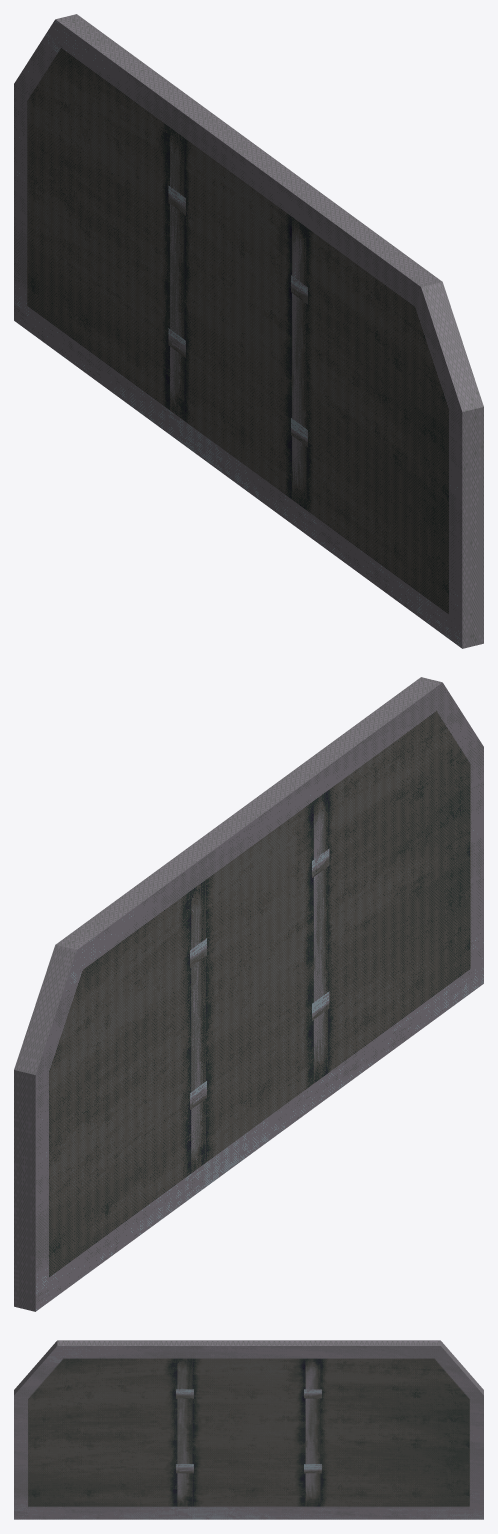
File: Door.fbx
3 views of the same model, one above another, from view 1: azimuth 30°, elevation 25°; view 2: azimuth 150°, elevation 25°; view 3: azimuth 270°, elevation 25° (orthographic). The views are drawn at different scales.
Visible parts, largest first — view 1: Door; view 2: Door; view 3: Door.
Boxes of the visible parts, x1,y1,x2,y2 form: Door: (14,14,483,648); Door: (14,677,483,1311); Door: (14,1340,483,1519).
Size of the model in its own units: 6.8 by 100 by 245.
